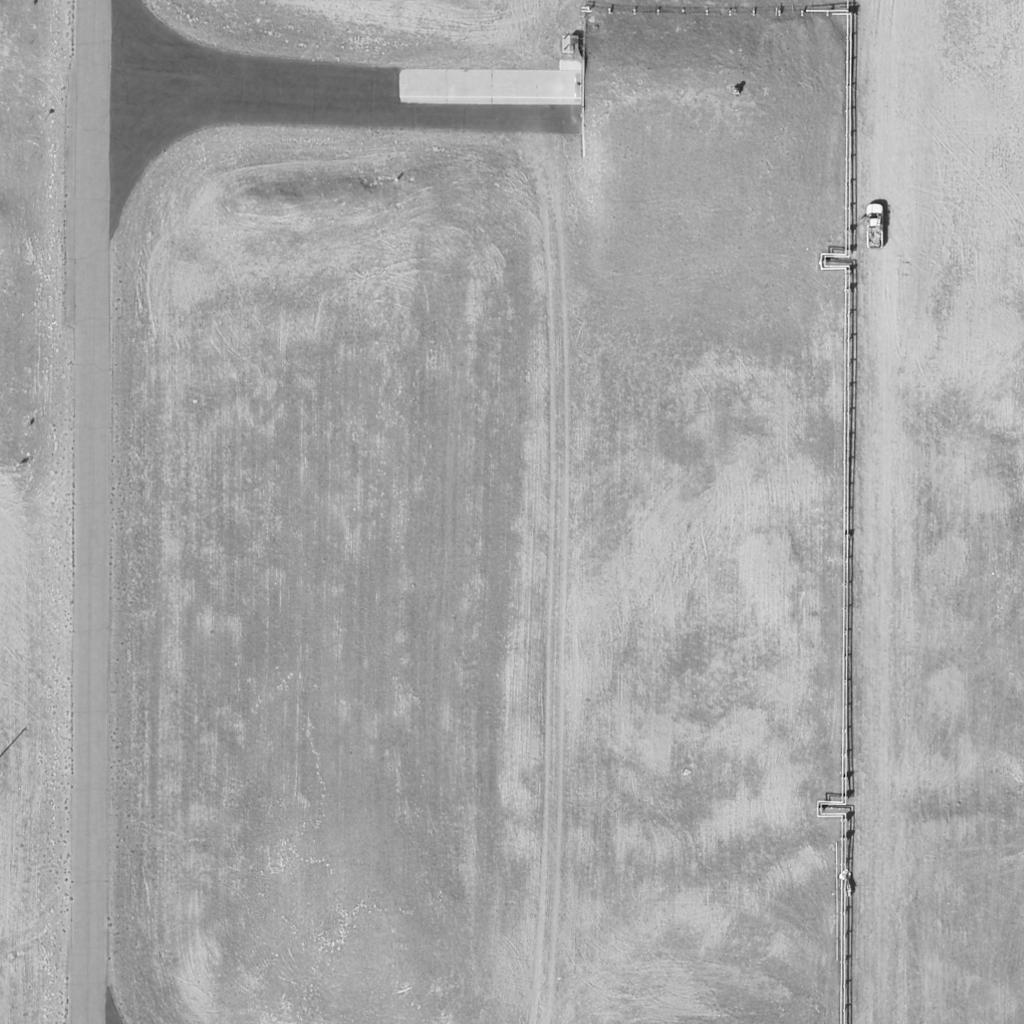vehicle: (866, 205, 884, 251)
